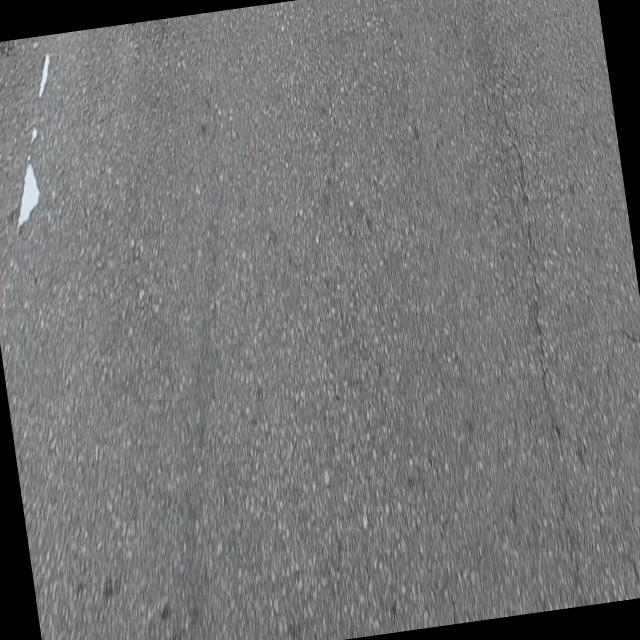Retak-Memanjang: (501, 94, 551, 399)
